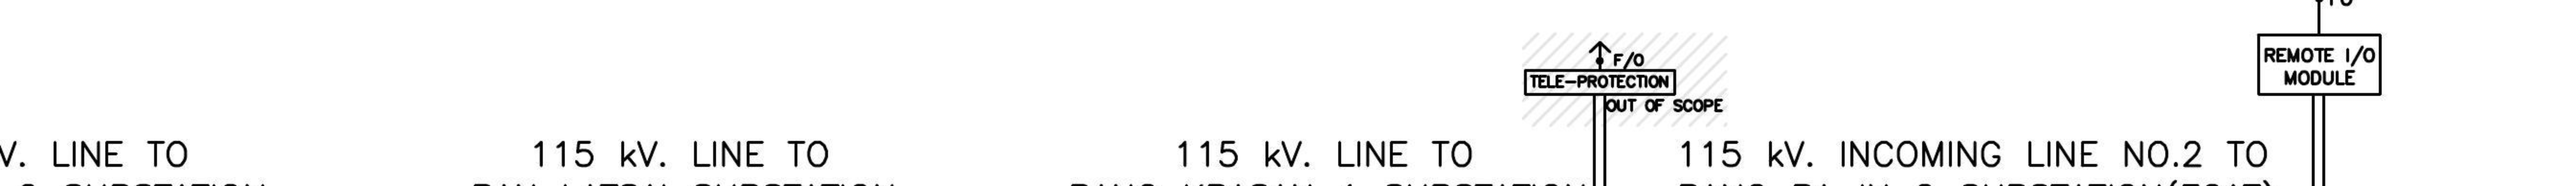remote_io_module: (2257, 33, 2382, 95)
tele_protection: (1523, 69, 1677, 97)
